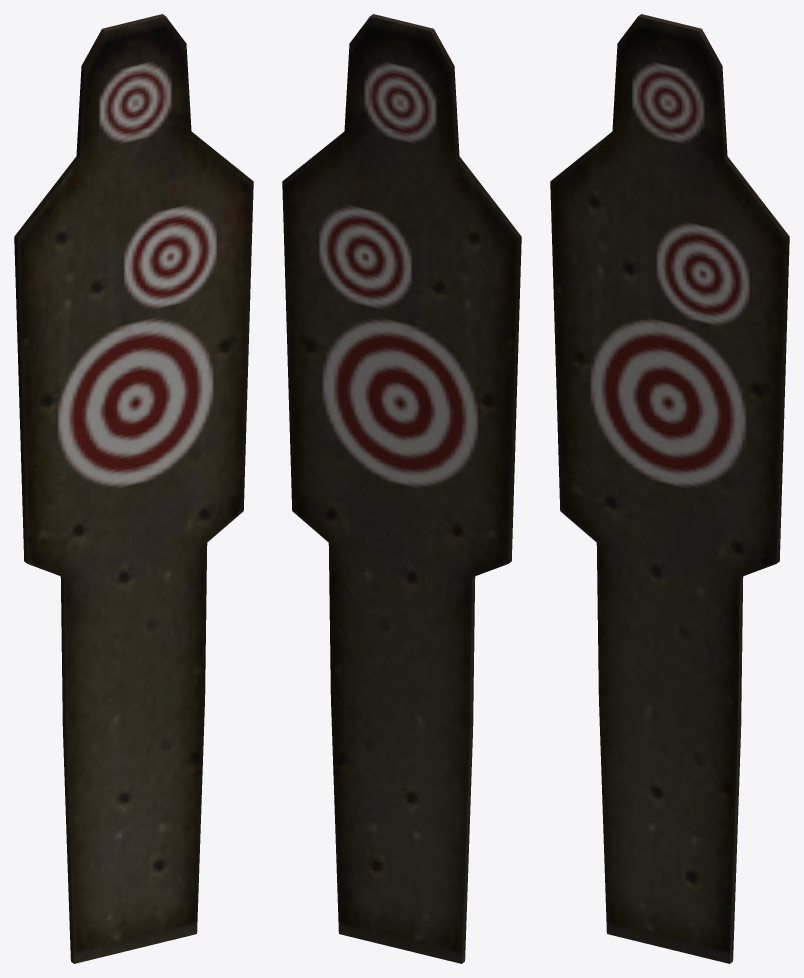
The model's file is Training_Target.fbx.
The picture shows the model from 3 angles, left to right: view 1: azimuth 30°, elevation 25°; view 2: azimuth 150°, elevation 25°; view 3: azimuth 330°, elevation 25°; orthographic projection.
Parts seen in each view (by area): view 1: Box01; view 2: Box01; view 3: Box01.
Part boxes in pixels (x1,y1,x2,y2): Box01: (14,14,253,963); Box01: (282,14,521,963); Box01: (550,14,789,963).
Size of the model in its own units: 44.41 by 166 by 1.08.
